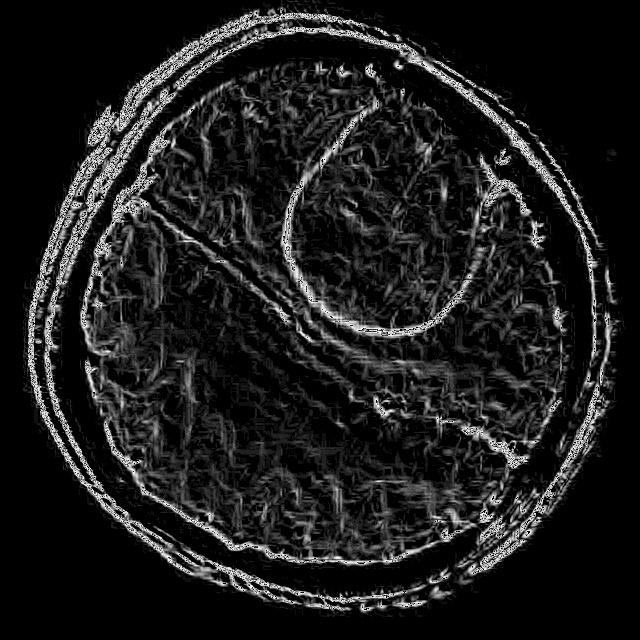Brain-Tumor: (266, 74, 518, 350)
